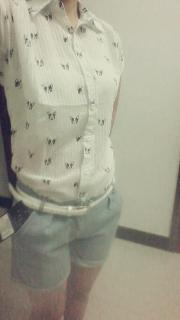short sleeve top: (0, 0, 125, 203)
shorts: (10, 174, 123, 292)
